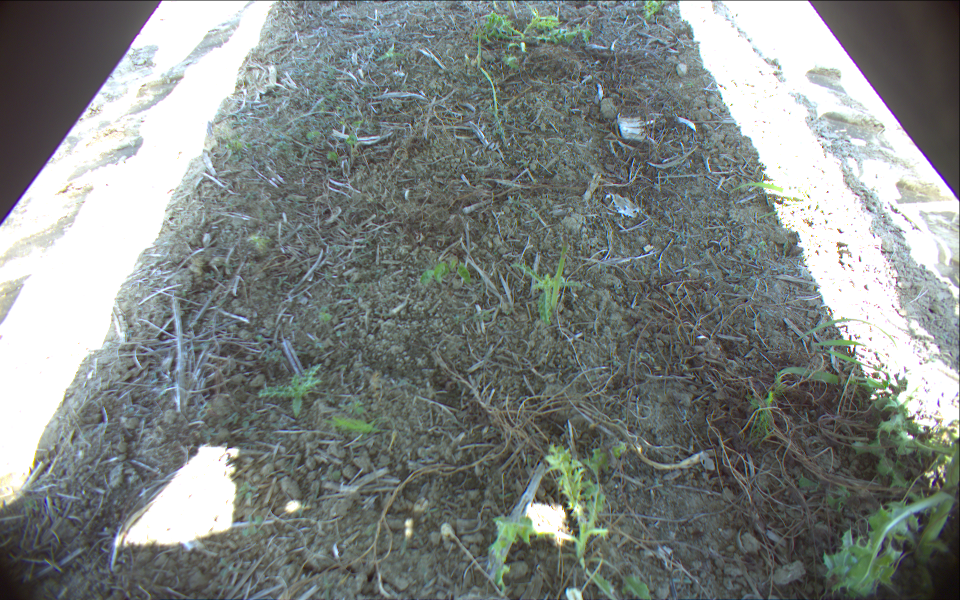aspa: (550, 235, 571, 310), (479, 68, 500, 126), (475, 13, 482, 71)
